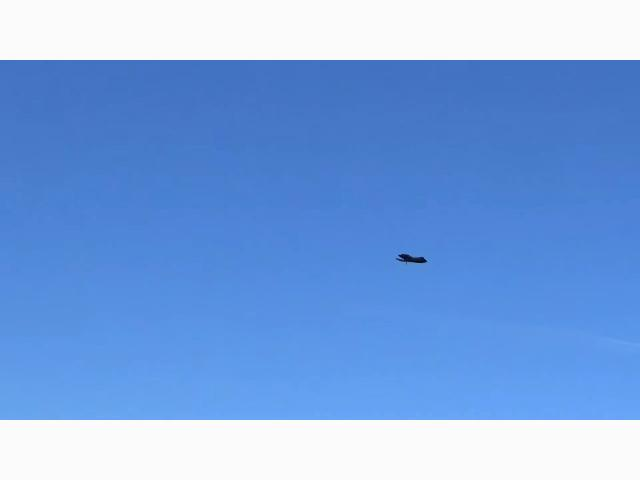Anti-Drone: (383, 247, 435, 274)
